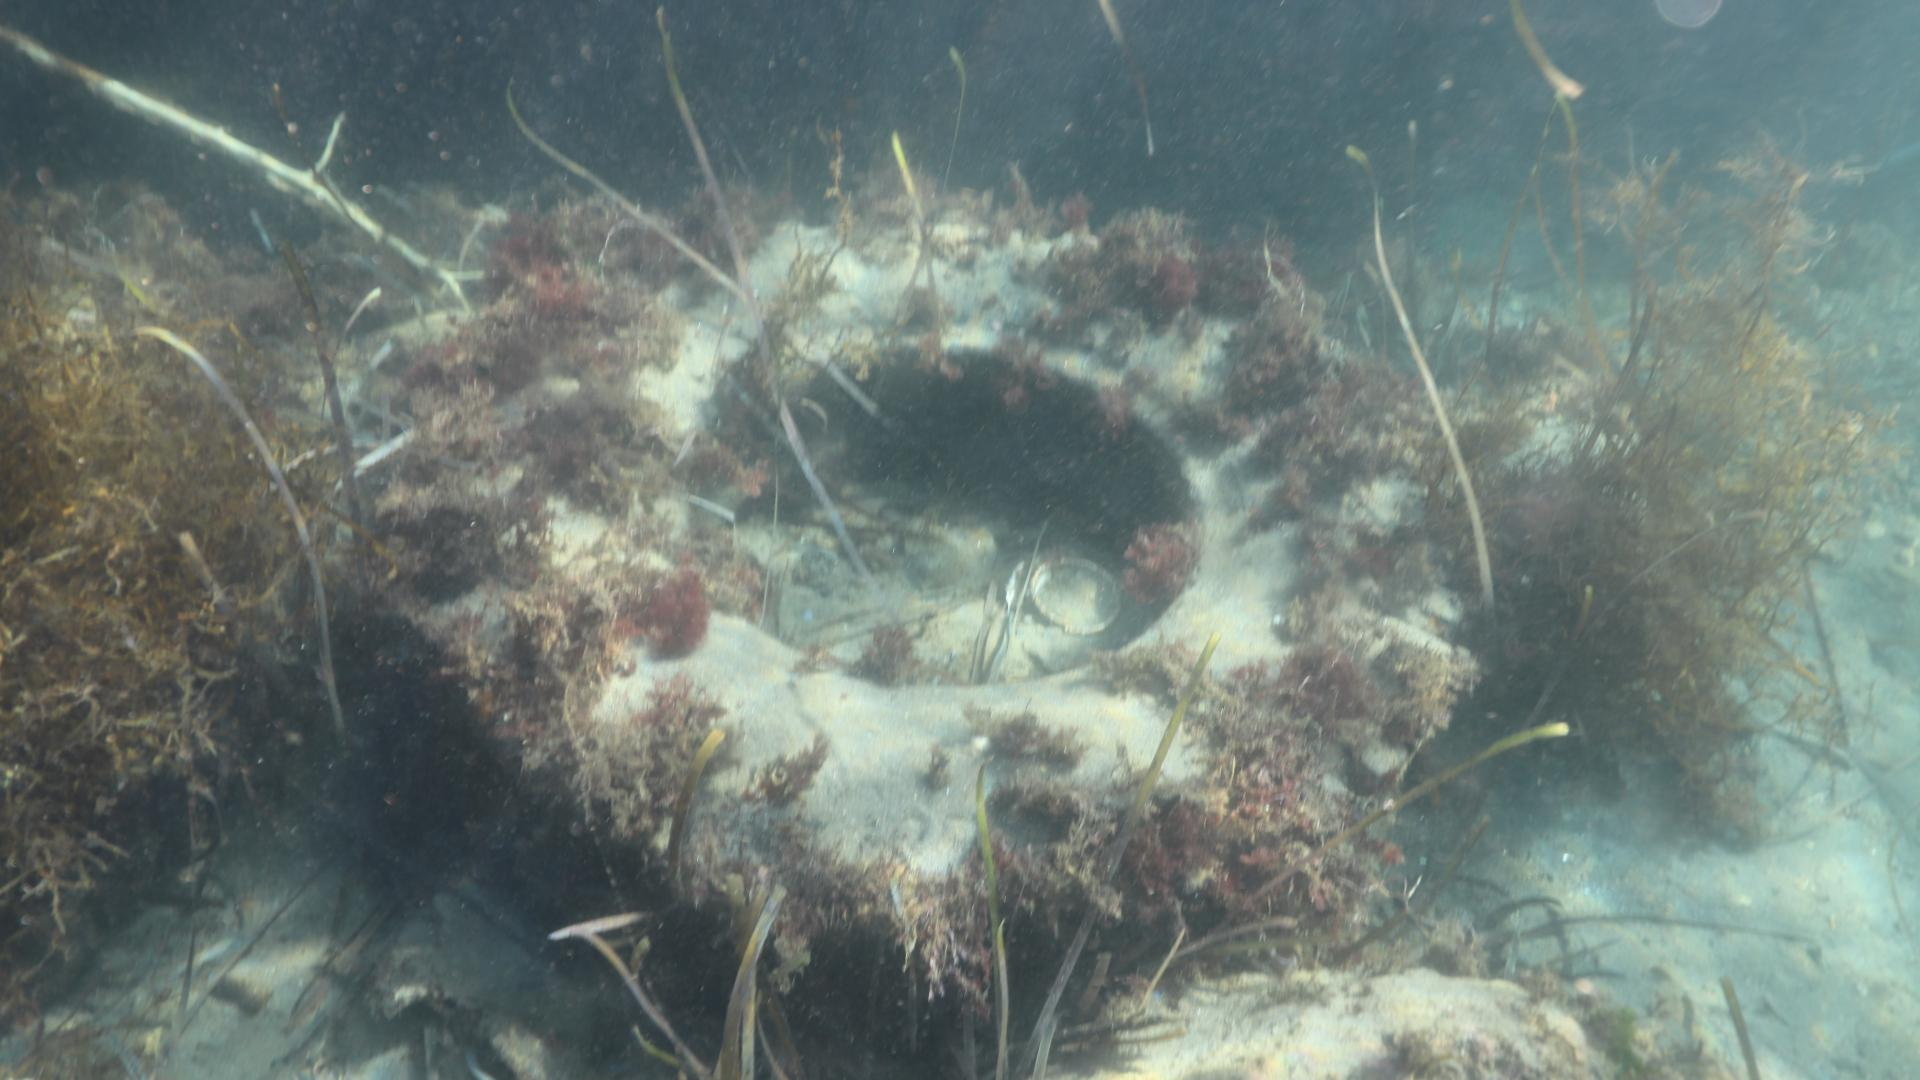tire: (542, 204, 1466, 1051)
